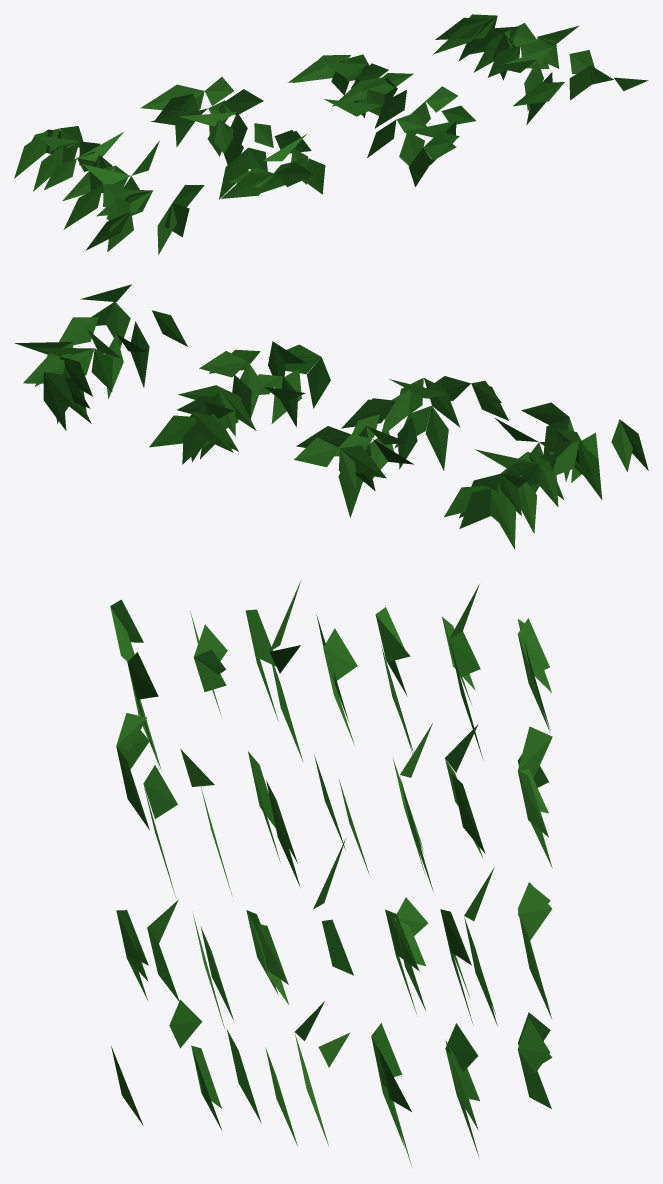
The picture shows the model from 3 angles, top to bottom: view 1: azimuth 30°, elevation 25°; view 2: azimuth 150°, elevation 25°; view 3: azimuth 270°, elevation 25°; orthographic projection. The views are drawn at different scales.
Parts seen in each view (by area): view 1: r22c2_l01; view 2: r22c2_l01; view 3: r22c2_l01.
Part boxes in pixels (<box>): r22c2_l01: <box>14,14,648,254</box>; r22c2_l01: <box>14,284,648,549</box>; r22c2_l01: <box>110,581,552,1167</box>.
Bounding box in the file's own units: 1.77 × 0.244 × 0.6015.
